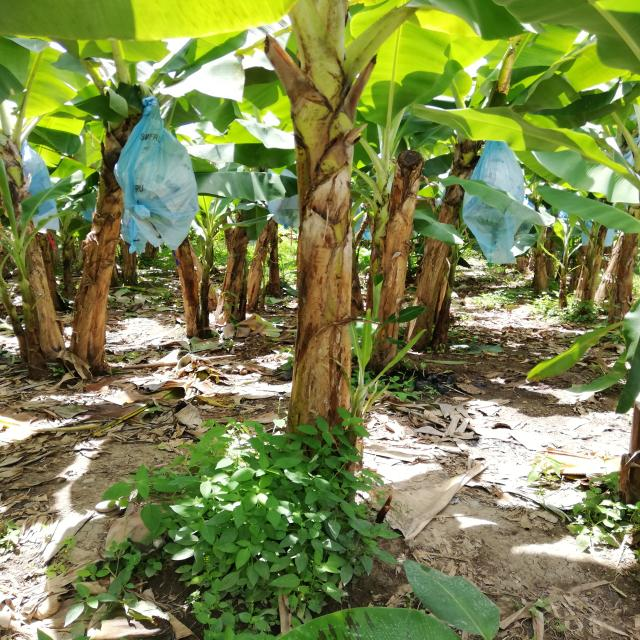Banana-plant: (243, 14, 414, 508), (68, 78, 161, 382), (418, 53, 495, 374), (357, 108, 427, 402), (0, 103, 59, 400)
